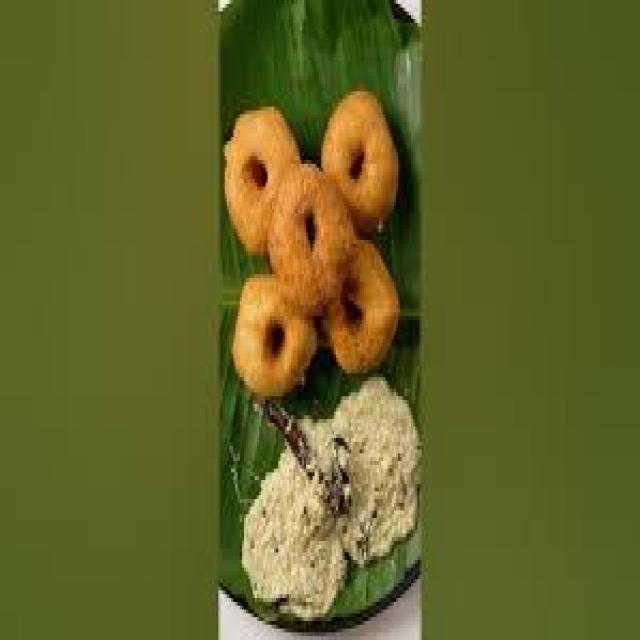MEDU VADA: (272, 164, 355, 309), (225, 107, 300, 251), (231, 274, 317, 392), (321, 240, 398, 370), (321, 95, 396, 225)
